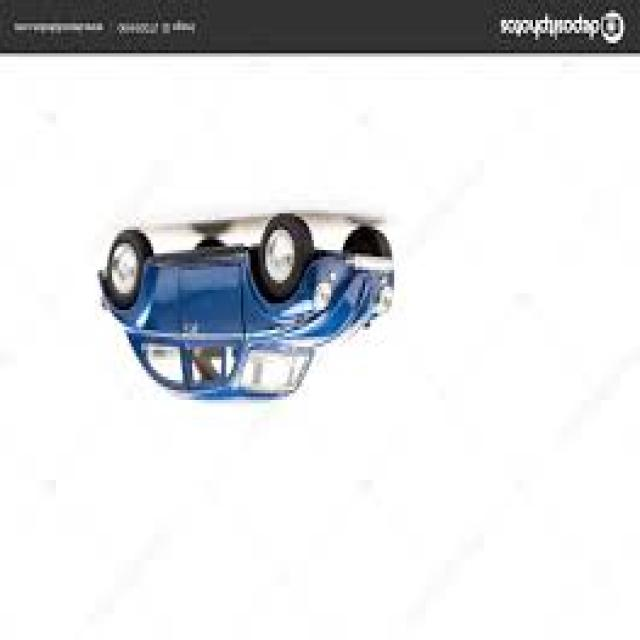Car: (100, 217, 394, 400)
